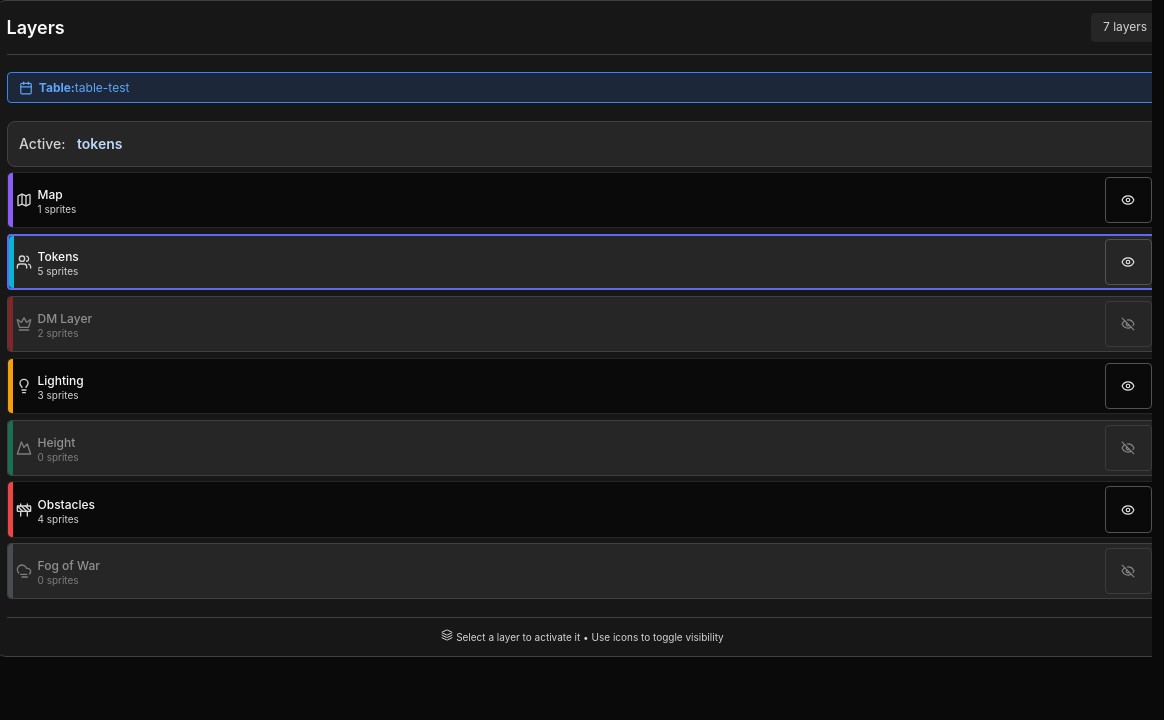
Test: LayerPanel - Game Master Layer Management › When game master adjusts layer opacity › shows opacity percentage when layer is expanded
Click the text "Tokens". click: (58, 257)
box: [38,248,79,266]
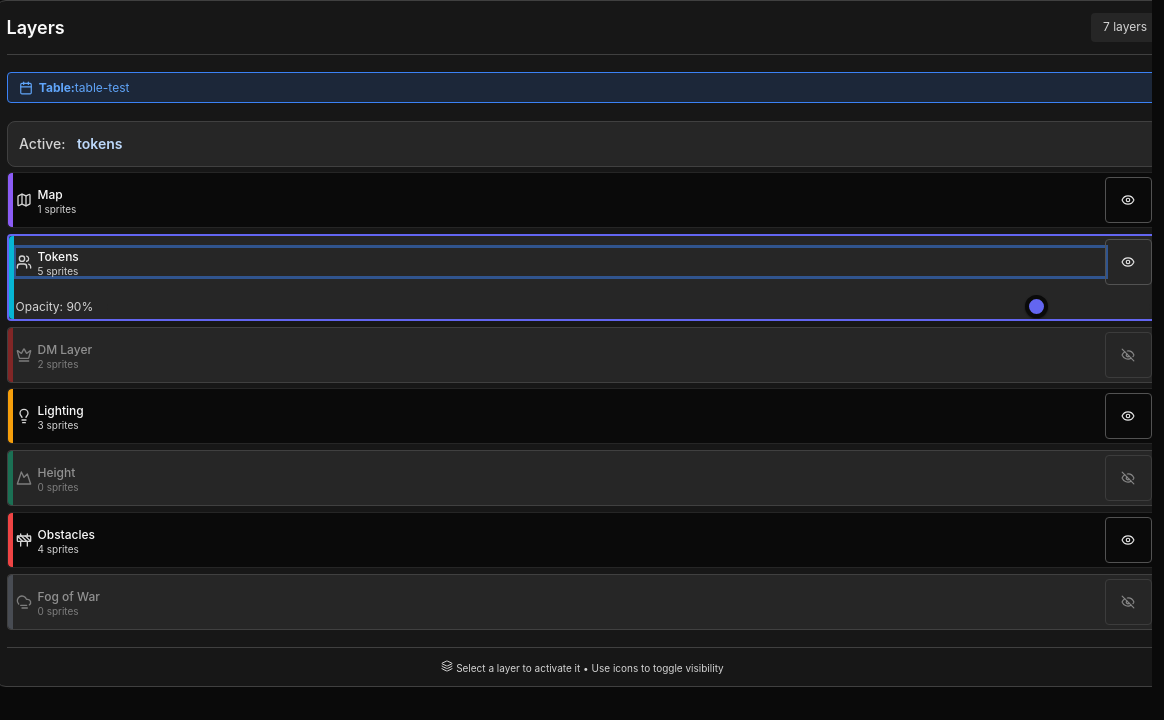
Expected: the text "Opacity: 90%" is shown, [16,298,93,316]
